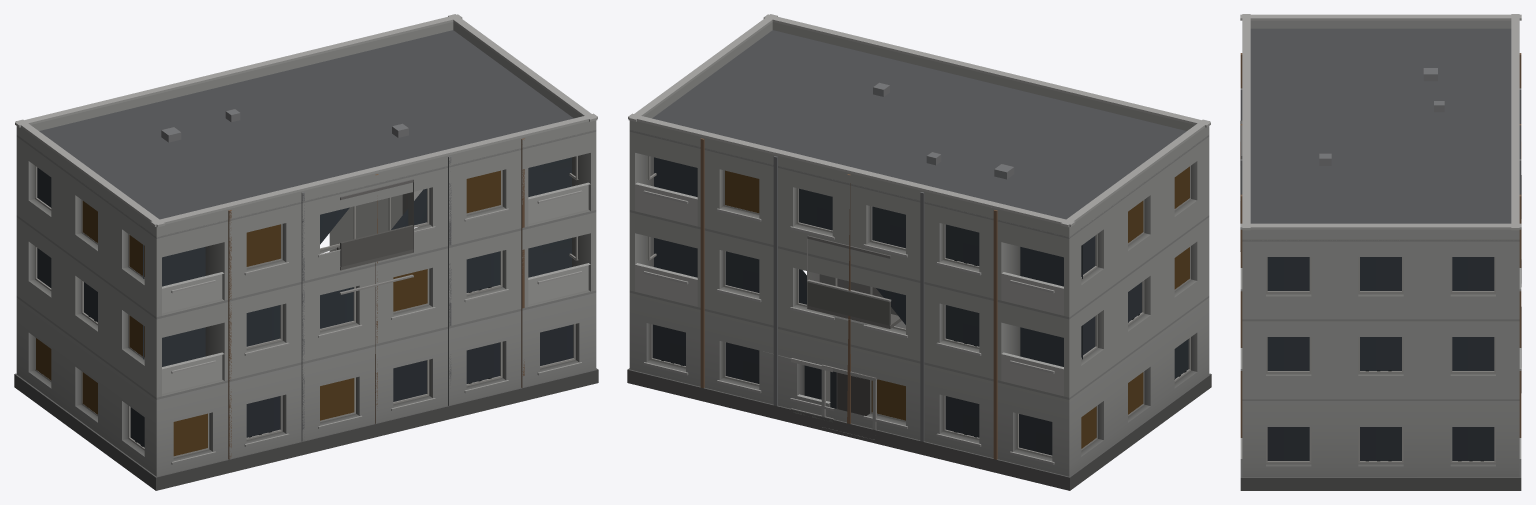
File: building_wide.glb
3 views of the same model, side by side, from view 1: azimuth 30°, elevation 25°; view 2: azimuth 150°, elevation 25°; view 3: azimuth 270°, elevation 25° (orthographic).
Visible parts, largest first — view 1: building_wide; view 2: building_wide; view 3: building_wide.
Boxes of the visible parts, x1=… form: building_wide: x1=14, y1=14, x2=598, y2=490; building_wide: x1=627, y1=14, x2=1211, y2=490; building_wide: x1=1240, y1=14, x2=1521, y2=490.
Bounding box in the file's own units: 18.14 × 10.39 × 10.06.
